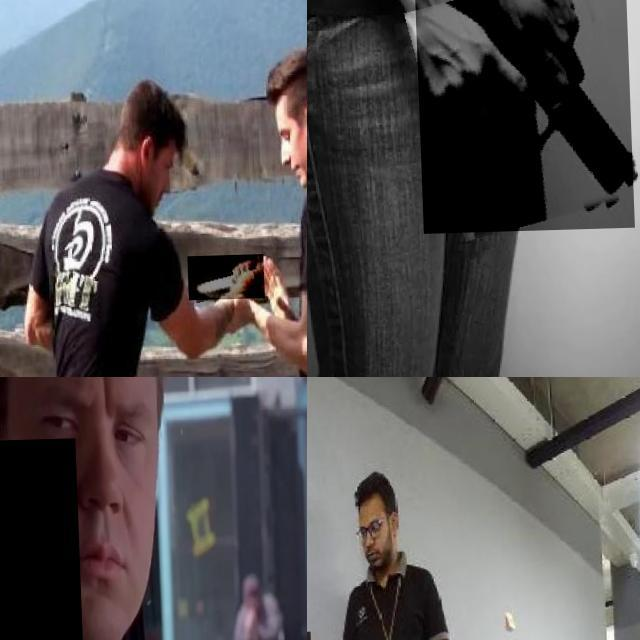-: (186, 258, 263, 304)
gun-knife-thesis - v11 Yolov5 augmented: (413, 0, 631, 235), (0, 440, 95, 640)
